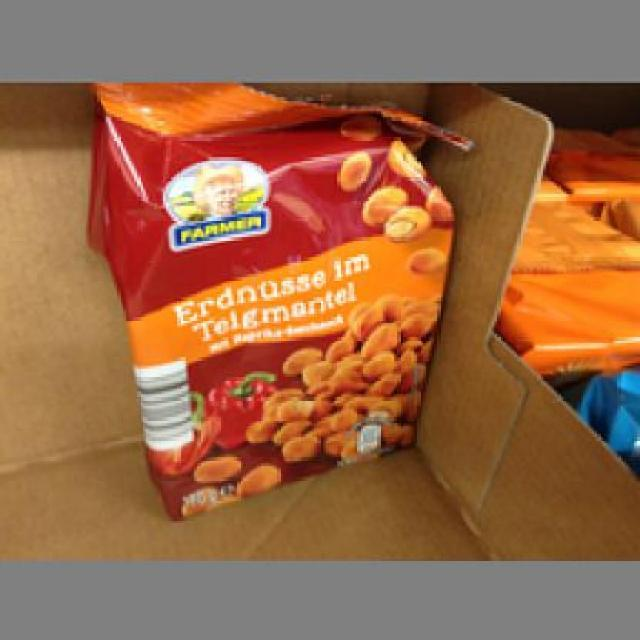Nuts: (83, 80, 466, 520)
